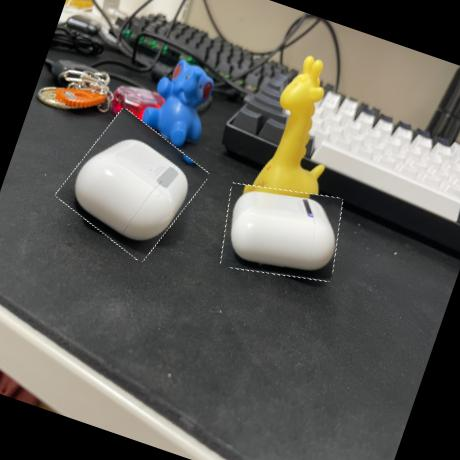airpod2: (211, 169, 353, 296)
airpod3: (52, 105, 212, 265)
